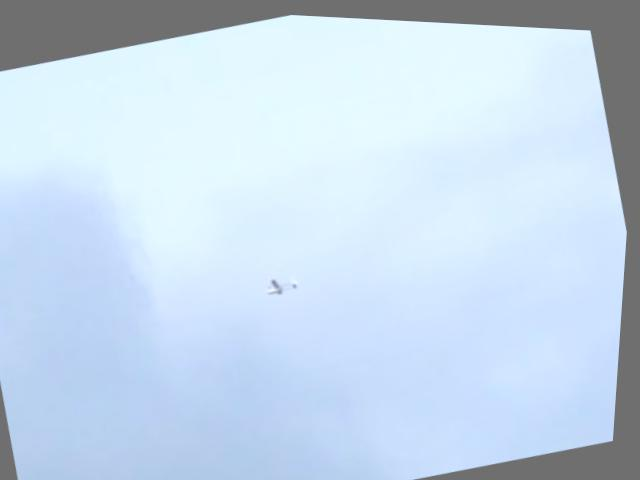uav: (263, 264, 308, 298)
